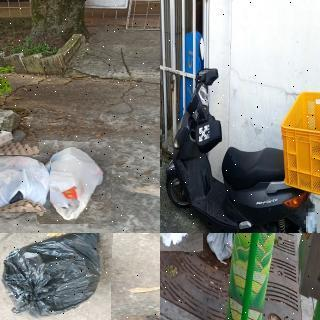Garbage: (0, 233, 112, 320), (38, 141, 112, 225), (0, 154, 50, 212)
